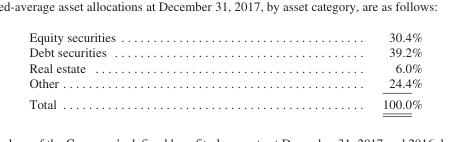table: (28, 29, 421, 110)
table column: (28, 29, 248, 110), (248, 29, 421, 110)
table row: (28, 75, 421, 93), (28, 93, 421, 110), (28, 59, 421, 75), (28, 29, 421, 44), (28, 44, 421, 59)
